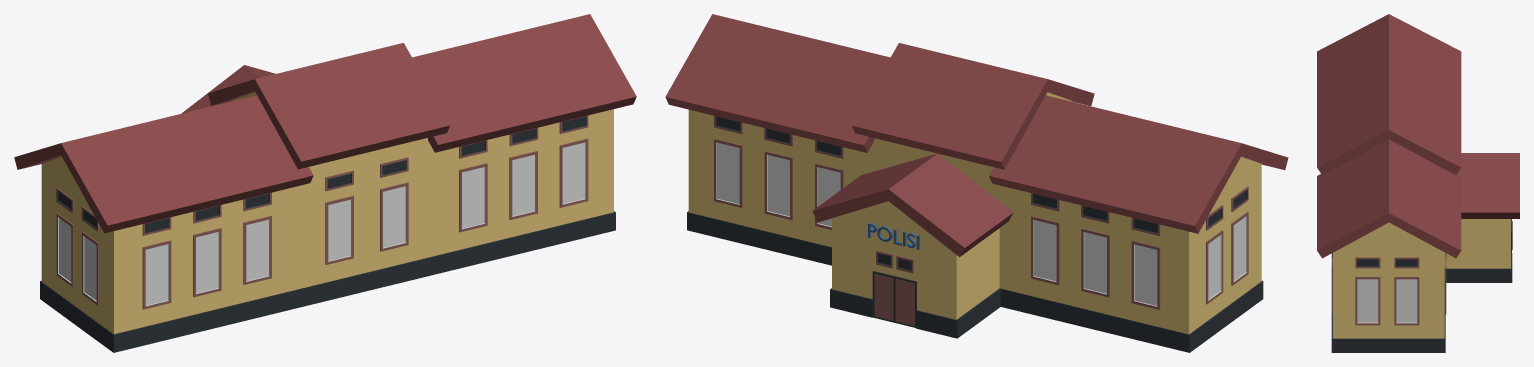
Rendered from polisi.fbx.
3 views of the same model, side by side, from view 1: azimuth 30°, elevation 25°; view 2: azimuth 150°, elevation 25°; view 3: azimuth 270°, elevation 25° (orthographic). The views are drawn at different scales.
Visible parts, largest first — view 1: Plane.157; view 2: Plane.157; view 3: Plane.157.
Part boxes in pixels (x1,y1,x2,y2): Plane.157: (14,14,636,352); Plane.157: (665,14,1288,352); Plane.157: (1317,14,1519,352).
Bounding box in the file's own units: 5965 × 2190 × 2567.
